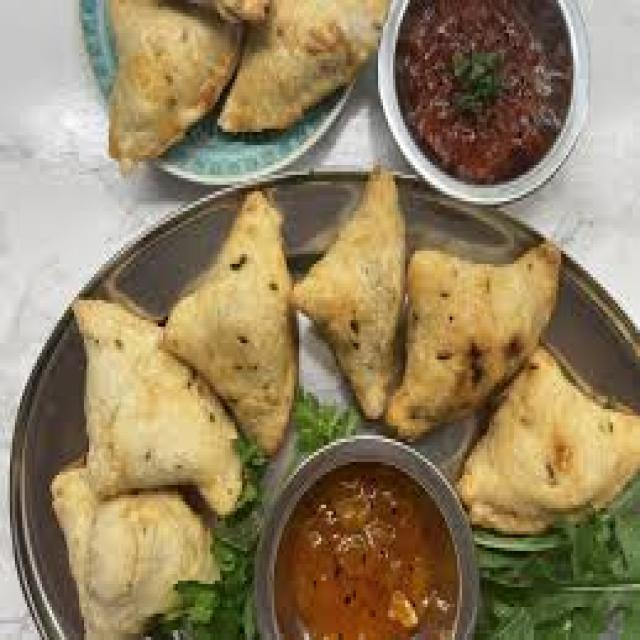SAMOSA: (74, 300, 240, 511), (163, 191, 297, 449), (457, 346, 638, 531), (385, 244, 558, 435), (52, 468, 217, 637), (294, 172, 403, 416)
